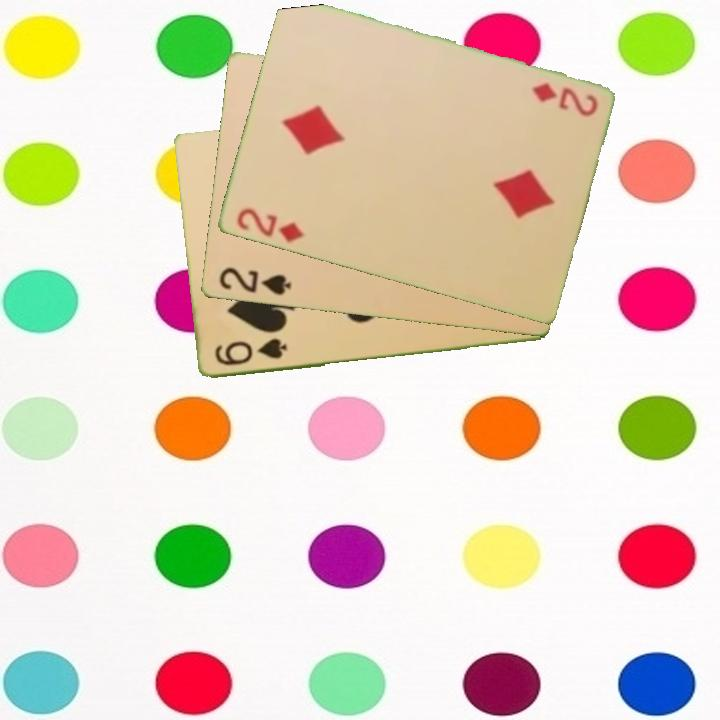2d: (232, 204, 307, 246), (528, 79, 601, 119)
2s: (215, 264, 294, 299)
6s: (211, 335, 290, 369)
